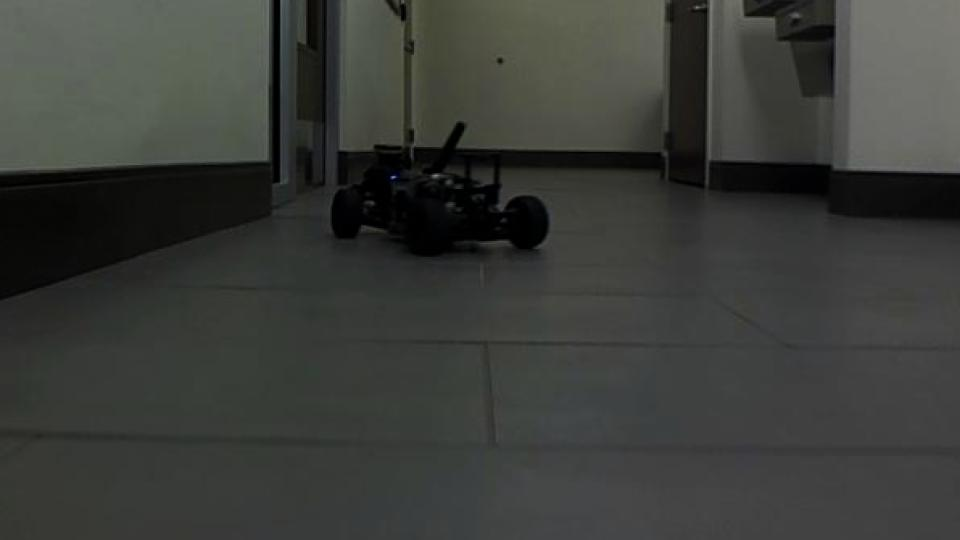car: (329, 118, 554, 259)
